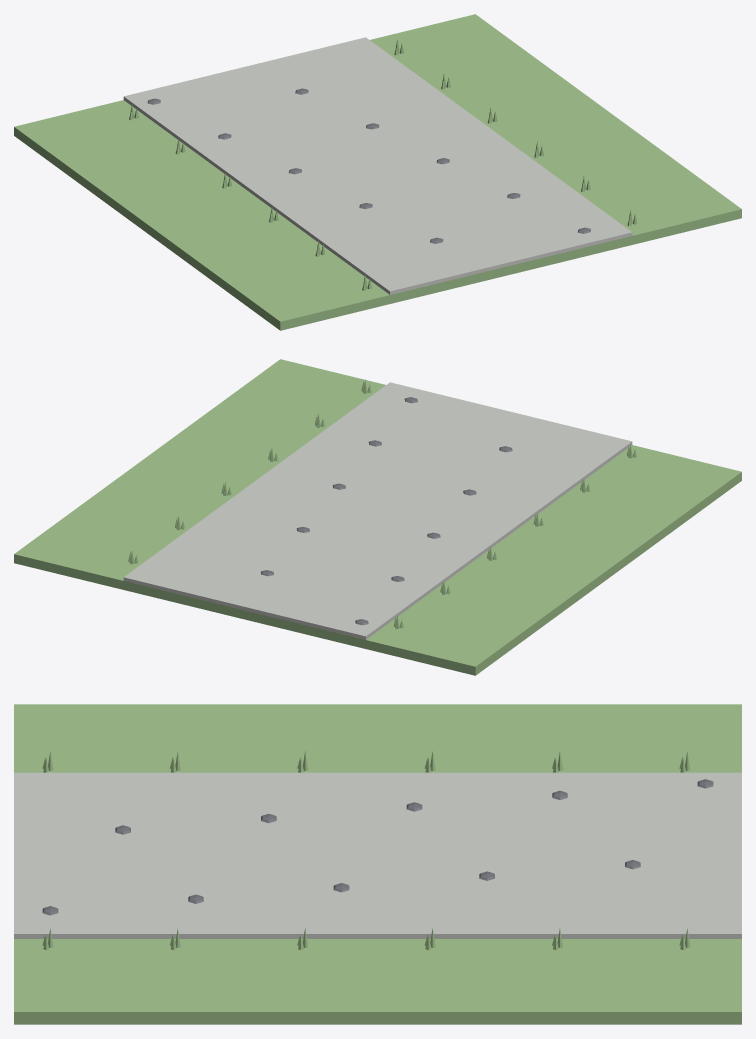
The model's file is wind-and-solar-energy-farm-access-track-straight-bb69cb15__34069.glb.
3 renders of one model, top to bottom at view 1: azimuth 30°, elevation 25°; view 2: azimuth 150°, elevation 25°; view 3: azimuth 270°, elevation 25°, orthographic. The views are drawn at different scales.
Parts seen in each view (by area): view 1: access-track-straight; view 2: access-track-straight; view 3: access-track-straight.
Boxes of the visible parts, box(x1,y1,x2,y2) form: access-track-straight: box(14, 14, 741, 330); access-track-straight: box(14, 359, 741, 675); access-track-straight: box(14, 704, 741, 1024).
Bounding box in the file's own units: 8 × 0.3838 × 8.
